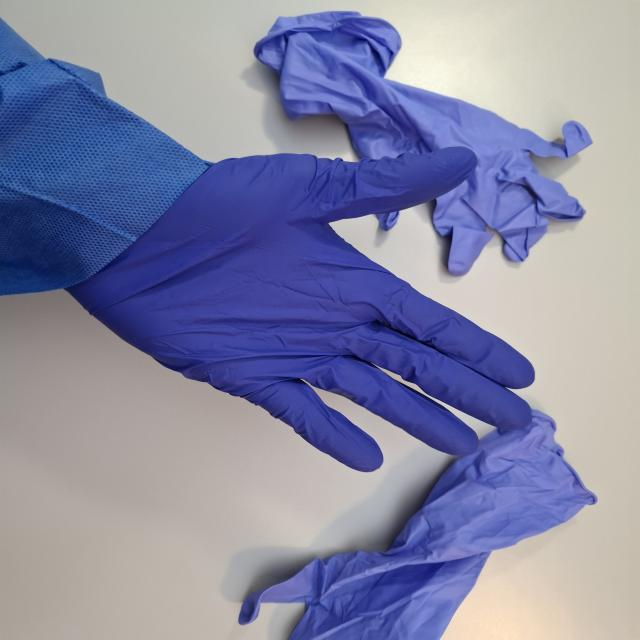glove_on: (59, 141, 538, 474)
